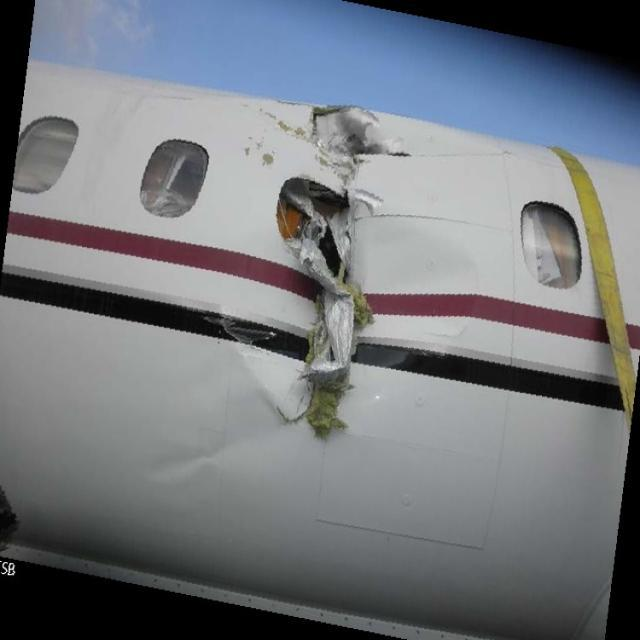crack: (265, 90, 421, 451)
dent: (362, 208, 479, 393), (148, 420, 257, 492)
